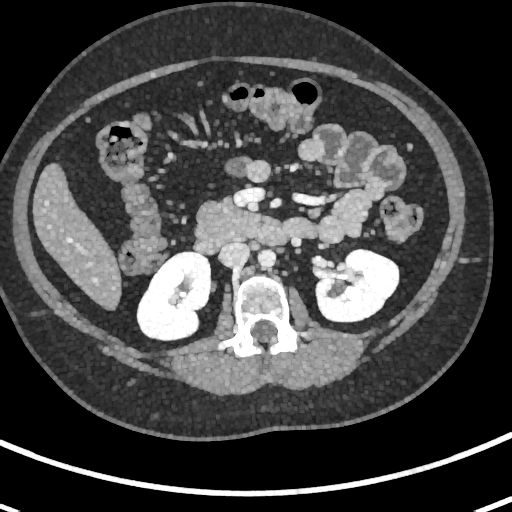Lesion: (326, 277, 352, 301)
